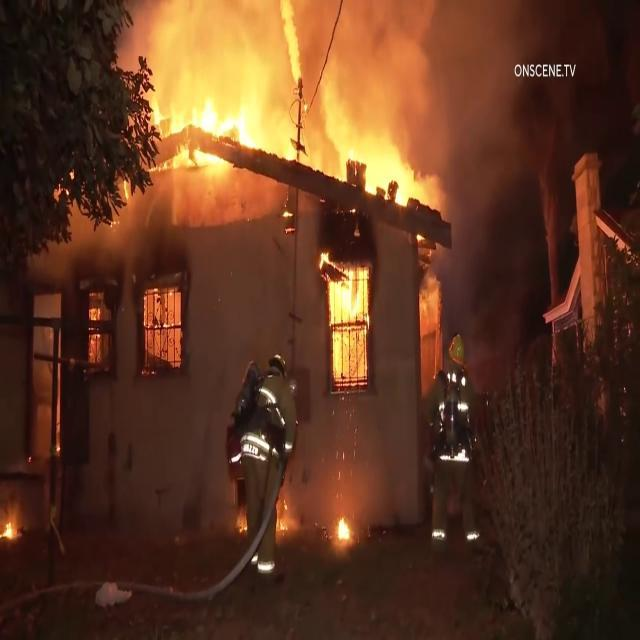Fire: (336, 140, 438, 233), (166, 99, 255, 178), (338, 264, 378, 386), (0, 524, 12, 542), (340, 526, 350, 546)
Smoke: (450, 2, 524, 324)
